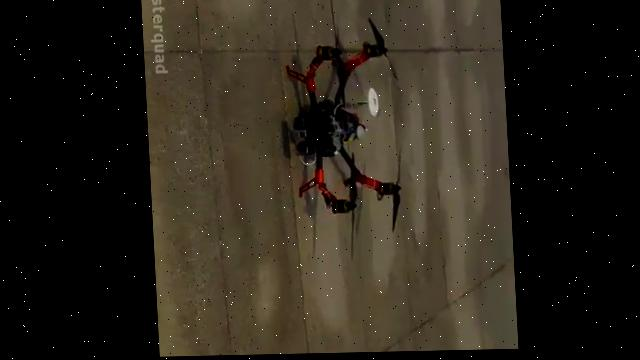drone: (281, 0, 404, 262)
